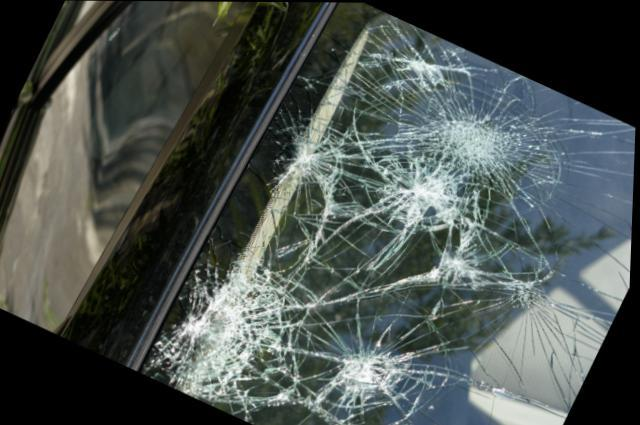glass shatter: (141, 2, 636, 425)
